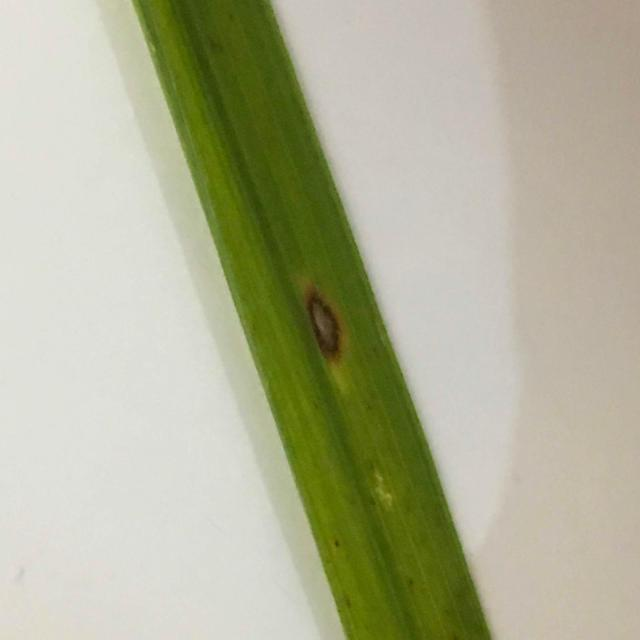Leaf blast: (122, 1, 517, 640)
